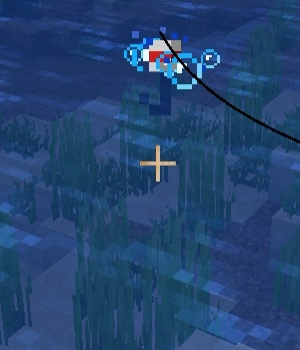up: (141, 33, 187, 118)
